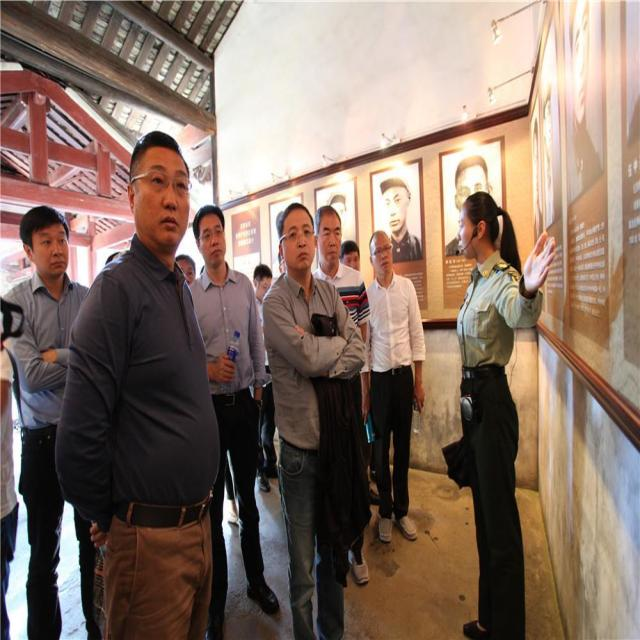no_helmet: (127, 131, 192, 249), (21, 203, 70, 277), (452, 191, 497, 256), (278, 205, 315, 271), (192, 204, 228, 262), (316, 206, 342, 264), (368, 228, 394, 276), (340, 236, 362, 278), (171, 252, 196, 288), (249, 260, 271, 300)
